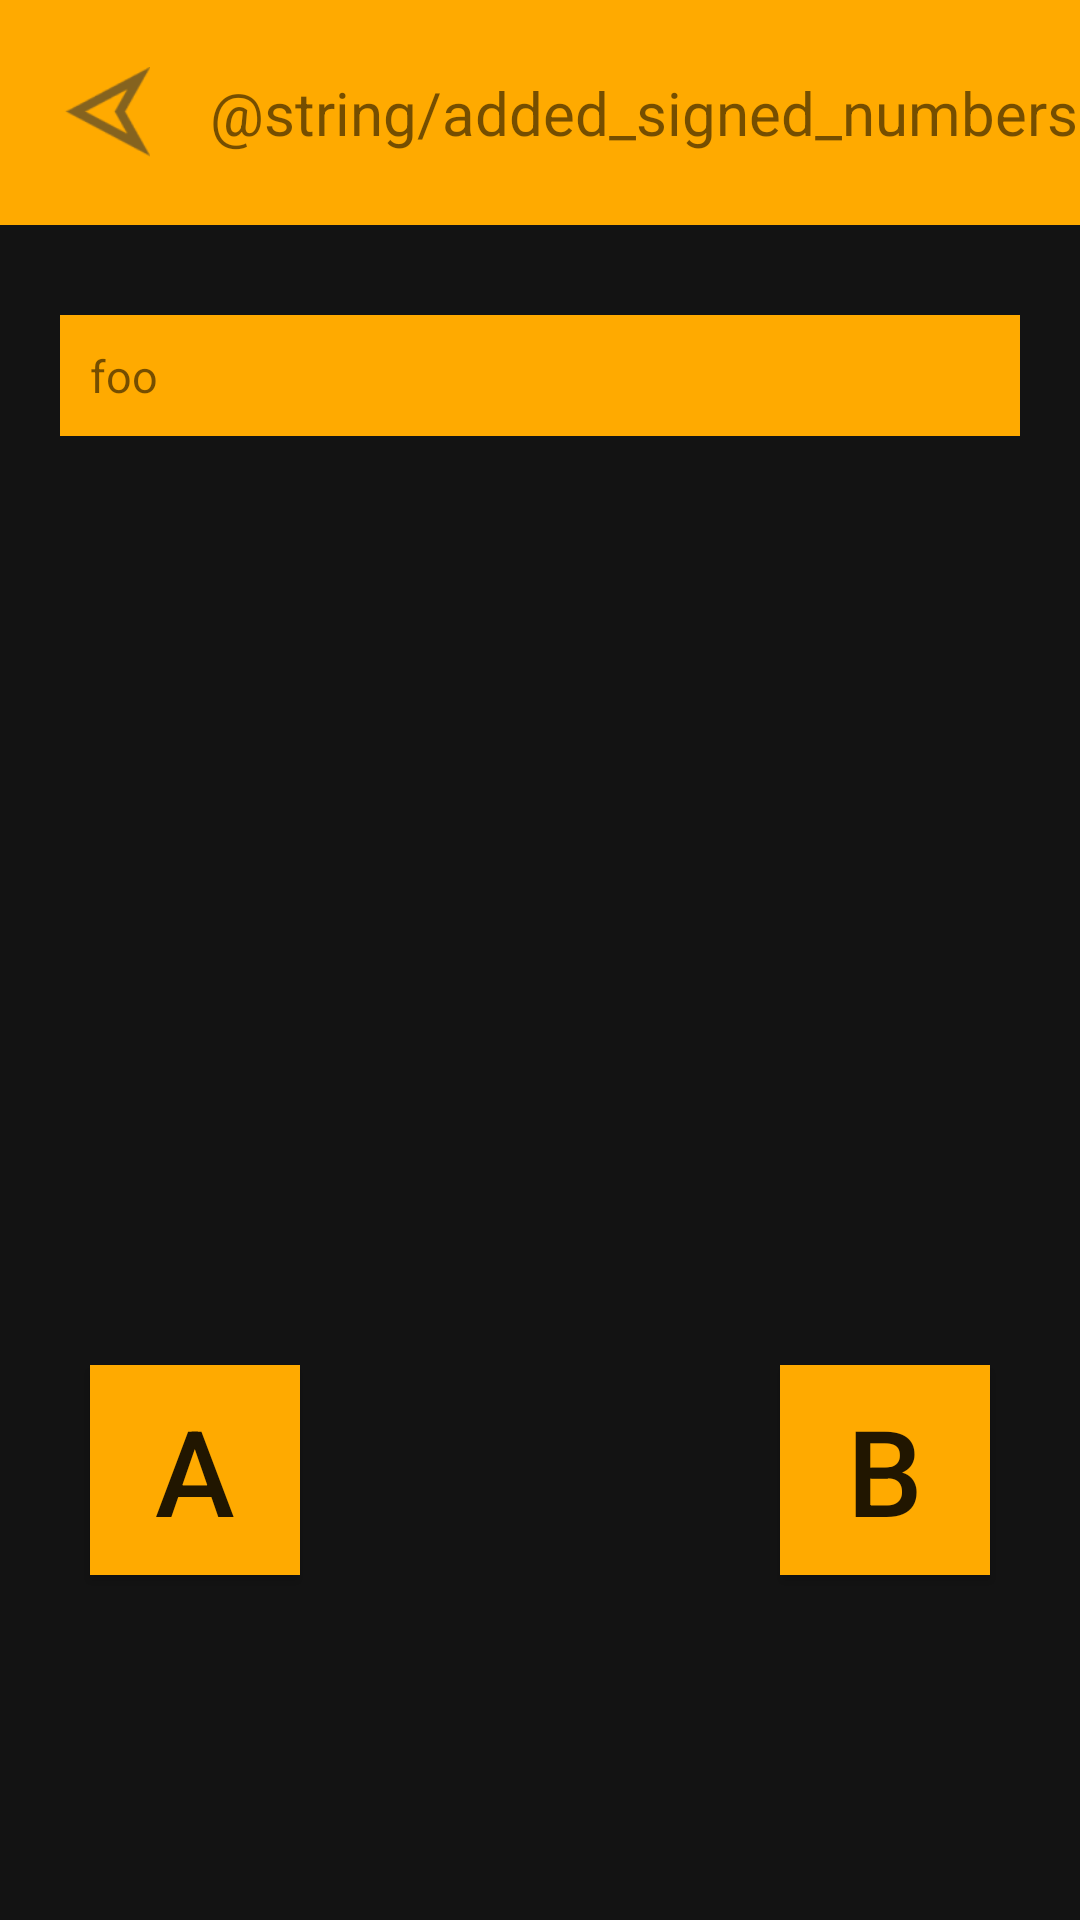

Icons on this 1080px x 1920px Android screen, each with the point to tap as (x=x, y=y):
back: (x=108, y=111)
